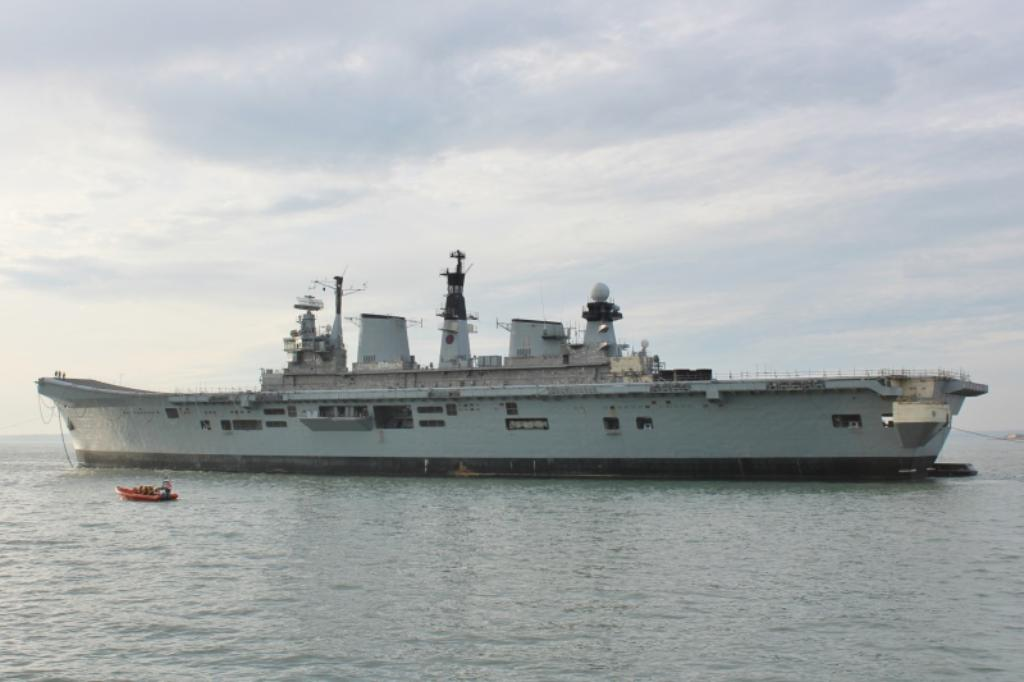Warship: (18, 266, 994, 472)
